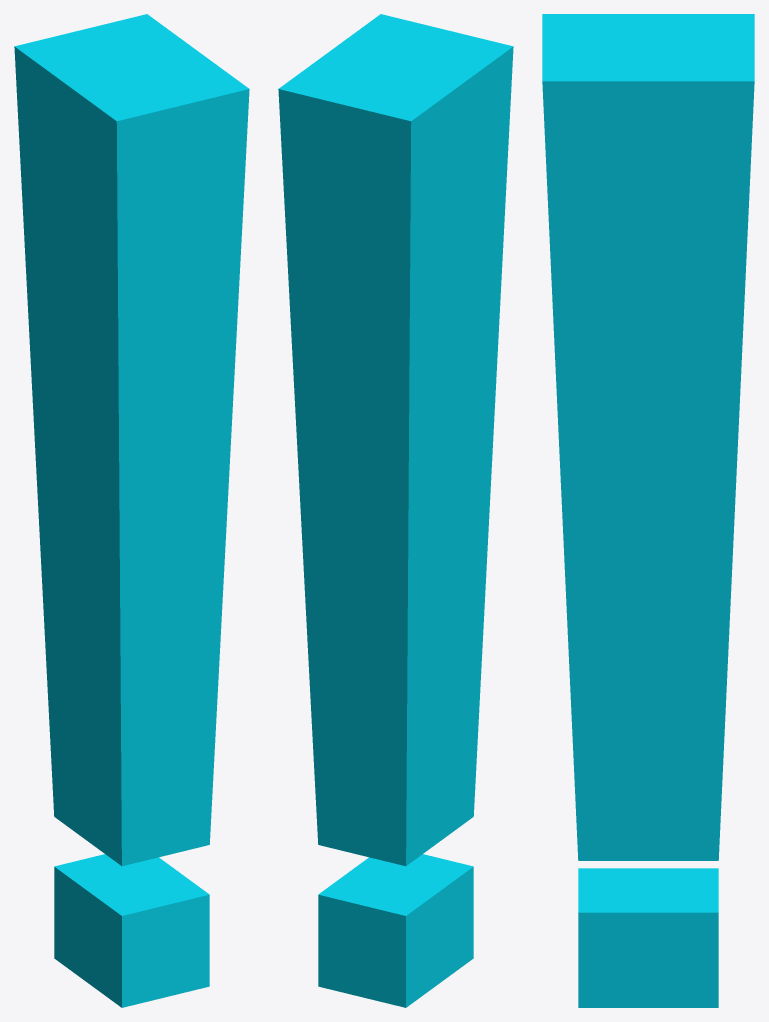
The model's file is error.glb.
3 renders of one model, left to right at view 1: azimuth 30°, elevation 25°; view 2: azimuth 150°, elevation 25°; view 3: azimuth 270°, elevation 25°, orthographic. The views are drawn at different scales.
Parts seen in each view (by area): view 1: Layer_1; view 2: Layer_1; view 3: Layer_1.
Part boxes in pixels (bbox=[...]): Layer_1: bbox=[14, 14, 249, 1007]; Layer_1: bbox=[278, 14, 513, 1007]; Layer_1: bbox=[542, 14, 754, 1007].
Bounding box in the file's own units: 0.2403 × 1.57 × 0.321.
